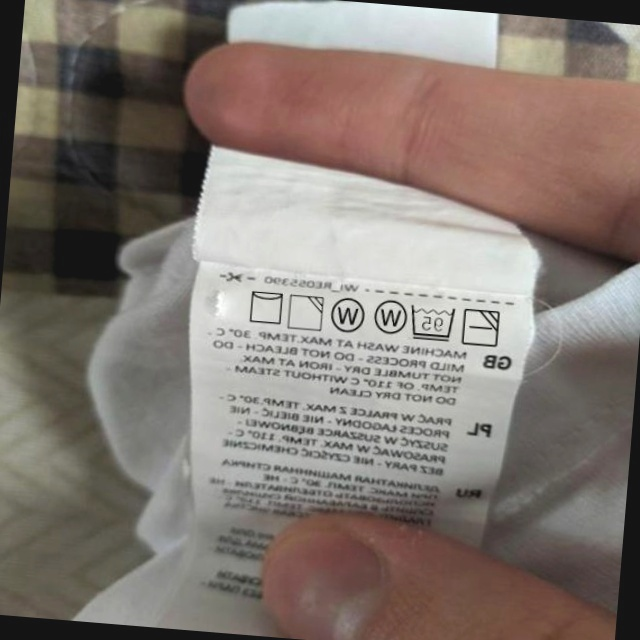95C: (407, 301, 458, 343)
dry_flat_in_shade: (460, 305, 503, 350)
line_dry: (244, 286, 286, 327)
shade_dry: (285, 291, 326, 333)
wet_clean: (328, 295, 367, 337), (370, 294, 408, 337)
